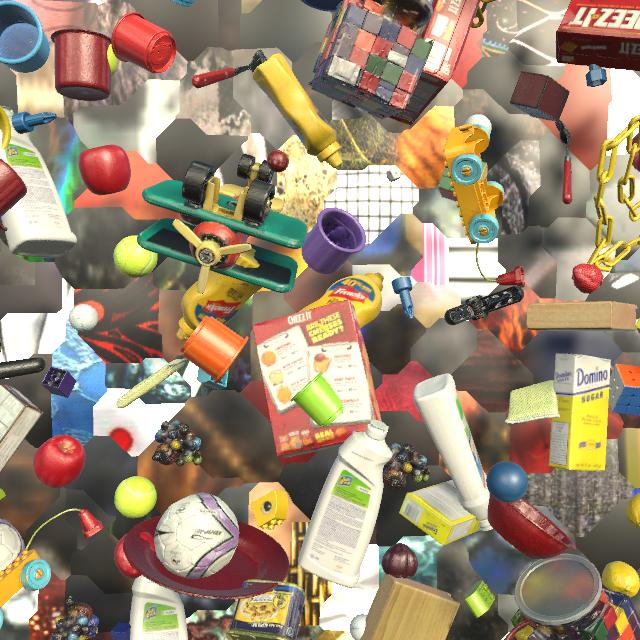ycb_003_cracker_box: (252, 299, 382, 458), (389, 0, 480, 125), (556, 0, 640, 71)
ycb_004_sugar_box: (548, 353, 611, 471), (399, 480, 481, 546), (636, 317, 640, 333)
ycb_006_mustard_bottle: (253, 54, 343, 169), (177, 248, 262, 341), (299, 273, 384, 334)
ycb_008_pudding_box: (0, 384, 43, 473)
ycb_010_potted_meat_can: (226, 579, 306, 640)
ycb_012_strawberry: (572, 264, 603, 294)
ycb_013_apple: (33, 435, 86, 488), (78, 145, 131, 195), (114, 532, 156, 579), (632, 134, 640, 172)
ycb_014_lemon: (602, 561, 640, 598), (626, 493, 640, 530)
ycb_018_plum: (382, 543, 418, 579), (179, 213, 201, 226)
